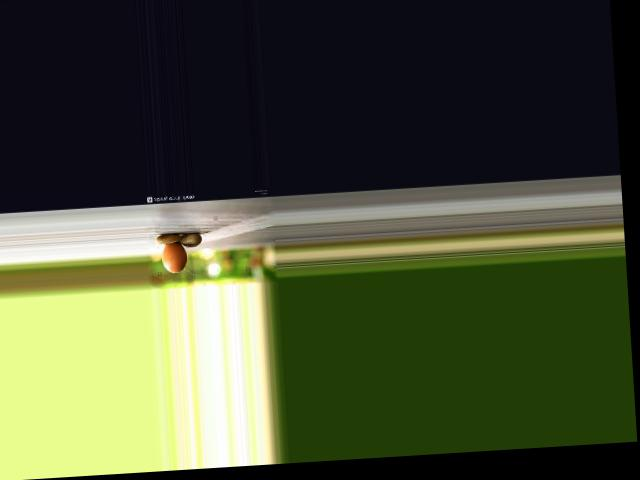egg: (161, 241, 188, 272)
